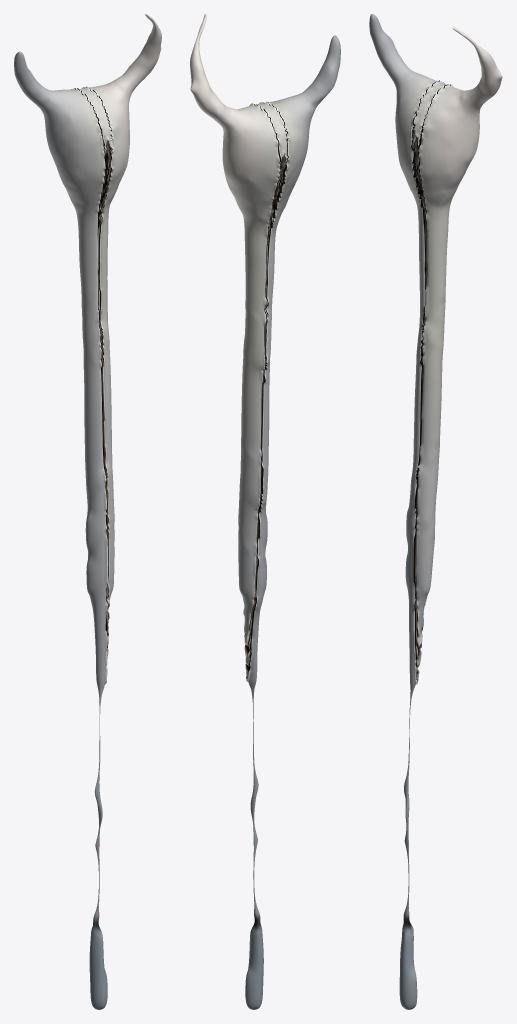
The model's file is kfl-2202.glb.
The picture shows the model from 3 angles, left to right: view 1: azimuth 30°, elevation 25°; view 2: azimuth 210°, elevation 25°; view 3: azimuth 330°, elevation 25°; orthographic projection. The views are drawn at different scales.
Parts seen in each view (by area): view 1: kfl-2202; view 2: kfl-2202; view 3: kfl-2202.
Boxes of the visible parts, x1,y1,x2,y2 form: kfl-2202: (14, 14, 161, 1009); kfl-2202: (190, 14, 340, 1009); kfl-2202: (369, 14, 502, 1009).
Bounding box in the file's own units: 0.1447 × 0.9834 × 0.0771.
Materials: 1 (1 with a texture image).
